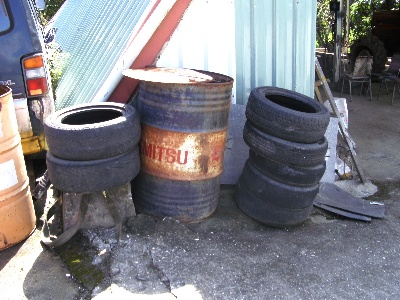bucket: (138, 68, 235, 226)
tire: (43, 100, 143, 157), (244, 84, 331, 143), (45, 148, 141, 192), (241, 119, 332, 164), (239, 159, 320, 208), (232, 182, 315, 227)
